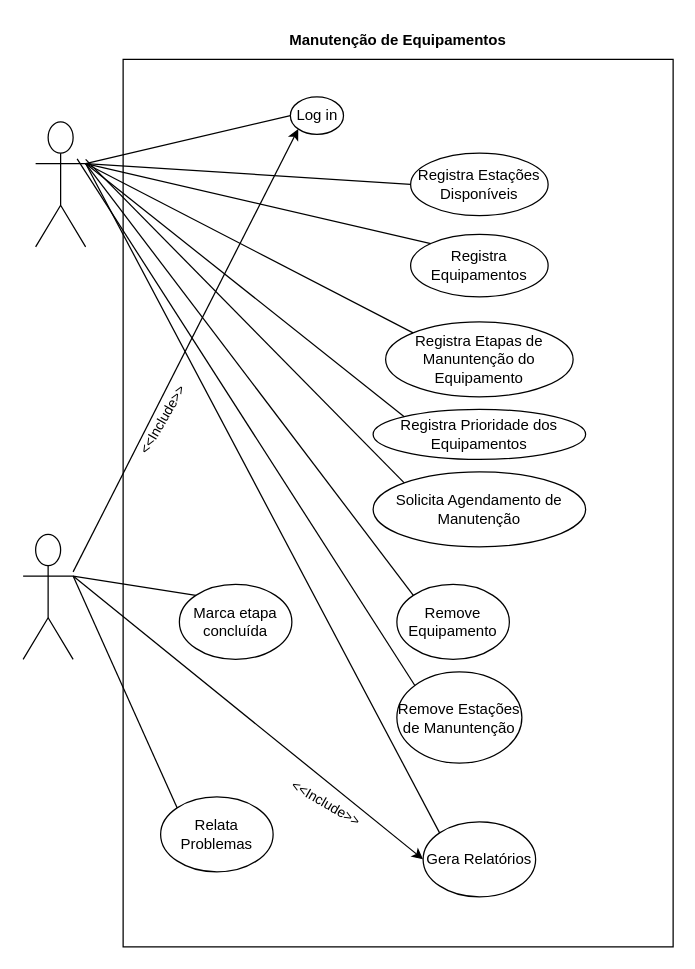
This 695x969 diagram has some shape labels left out. Each missing label, with the centre of its shape:
Gerente: the point at 60,184
Técnico: the point at 47,596
